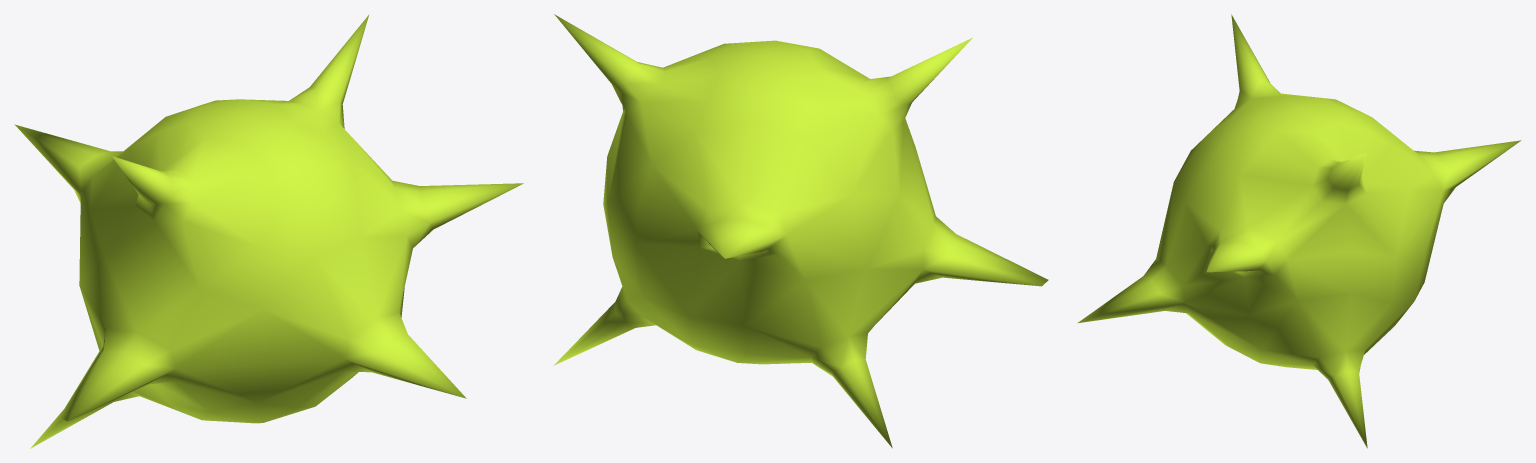
The model's file is monster15.fbx.
The picture shows the model from 3 angles, left to right: view 1: azimuth 30°, elevation 25°; view 2: azimuth 150°, elevation 25°; view 3: azimuth 270°, elevation 25°; orthographic projection. The views are drawn at different scales.
Visible parts, largest first — view 1: monster15; view 2: monster15; view 3: monster15.
Part boxes in pixels (left/top/right/bottom): monster15: left=14, top=14, right=523, bottom=448; monster15: left=553, top=14, right=1048, bottom=448; monster15: left=1077, top=14, right=1521, bottom=448.
Bounding box in the file's own units: 79.47 × 58.36 × 79.5.
